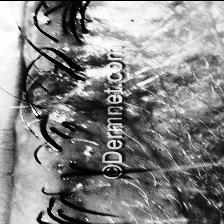Potentially Malignant Skin Tumors: (32, 86, 82, 124), (90, 94, 132, 118), (29, 7, 54, 27)
